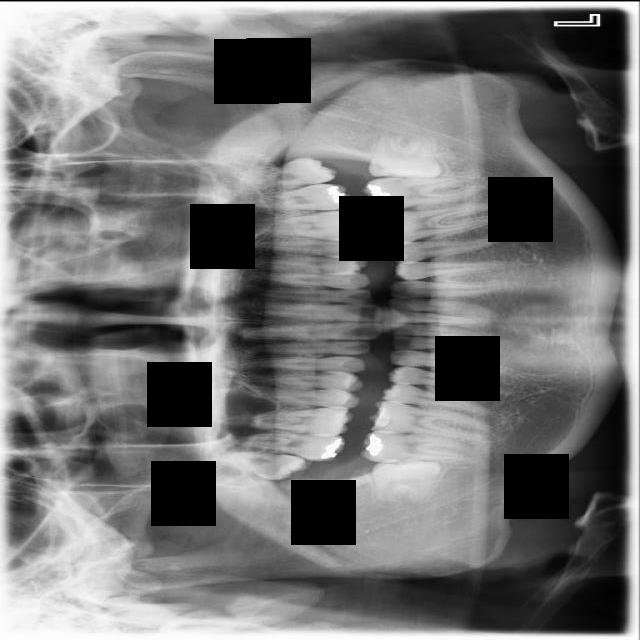3M ESPE Implant: (219, 450, 308, 481)
52: (372, 201, 429, 250), (360, 170, 418, 217), (367, 398, 417, 435), (359, 427, 405, 465), (300, 182, 356, 211), (293, 432, 346, 462)
73: (581, 38, 591, 42)
BioHorizons Implant: (229, 183, 355, 210)
BioLife Implant: (225, 152, 339, 194)
Biomet 3i Implant: (368, 130, 445, 183)
Blue Sky Bio Implant: (360, 171, 482, 214)
Caries: (234, 430, 346, 462)
Implant: (360, 428, 474, 467)
Keystone Dental Implant: (370, 452, 445, 506)
